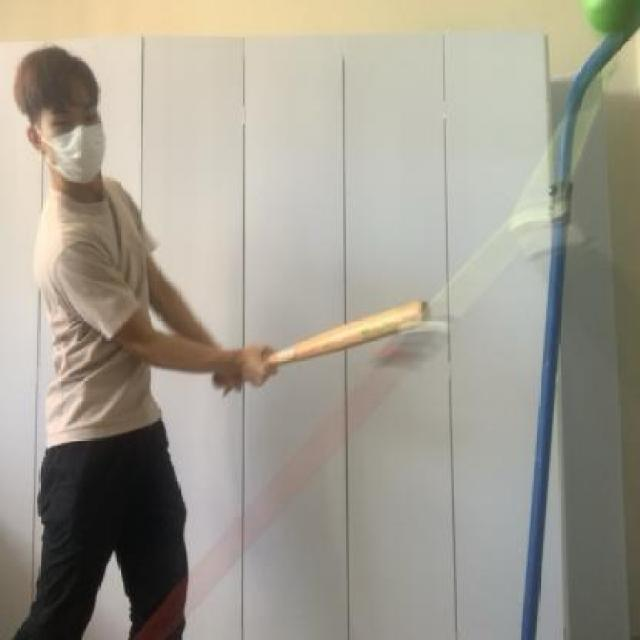baseball: (583, 0, 640, 40)
